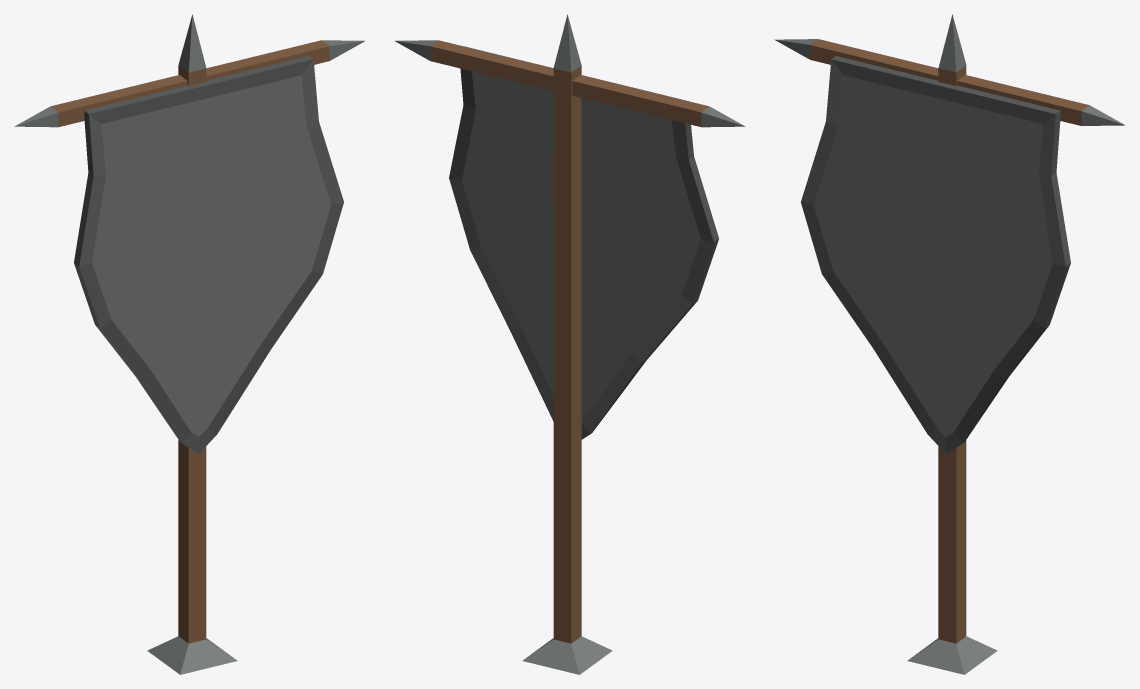
The model's file is Banner_3_Gray.fbx.
3 views of the same model, side by side, from view 1: azimuth 30°, elevation 25°; view 2: azimuth 150°, elevation 25°; view 3: azimuth 330°, elevation 25° (orthographic).
Visible parts, largest first — view 1: Banner_3_Gray_Part_3, Banner_3_Gray_Part_4, Banner_3_Gray_Part_1, Banner_3_Gray_Part_2; view 2: Banner_3_Gray_Part_3, Banner_3_Gray_Part_1, Banner_3_Gray_Part_4, Banner_3_Gray_Part_2; view 3: Banner_3_Gray_Part_3, Banner_3_Gray_Part_4, Banner_3_Gray_Part_1, Banner_3_Gray_Part_2.
Part boxes in pixels (x1=…): Banner_3_Gray_Part_3: x1=92, y1=75, x2=330, y2=436; Banner_3_Gray_Part_4: x1=74, y1=56, x2=343, y2=453; Banner_3_Gray_Part_1: x1=50, y1=40, x2=329, y2=643; Banner_3_Gray_Part_2: x1=14, y1=14, x2=364, y2=674; Banner_3_Gray_Part_3: x1=462, y1=71, x2=700, y2=421; Banner_3_Gray_Part_1: x1=430, y1=40, x2=709, y2=643; Banner_3_Gray_Part_4: x1=449, y1=47, x2=718, y2=439; Banner_3_Gray_Part_2: x1=395, y1=14, x2=745, y2=674; Banner_3_Gray_Part_3: x1=814, y1=75, x2=1052, y2=436; Banner_3_Gray_Part_4: x1=801, y1=56, x2=1070, y2=453; Banner_3_Gray_Part_1: x1=810, y1=39, x2=1089, y2=643; Banner_3_Gray_Part_2: x1=774, y1=14, x2=1124, y2=674.
Bounding box in the file's own units: 172 × 300 × 30.33.
